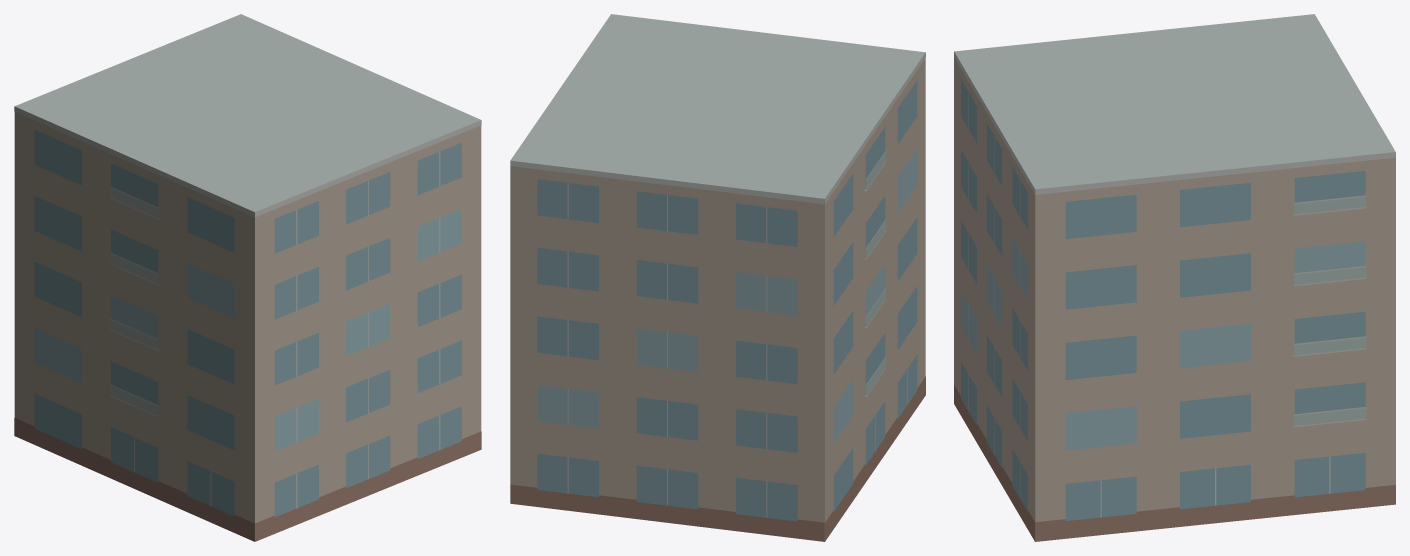
The model's file is survey-upis-32725464.glb.
3 renders of one model, left to right at view 1: azimuth 30°, elevation 25°; view 2: azimuth 150°, elevation 25°; view 3: azimuth 270°, elevation 25°, orthographic. The views are drawn at different scales.
Visible parts, largest first — view 1: survey-upis-32725464.tmp; view 2: survey-upis-32725464.tmp; view 3: survey-upis-32725464.tmp.
Part boxes in pixels (<box>): survey-upis-32725464.tmp: <box>14,14,481,541</box>; survey-upis-32725464.tmp: <box>510,14,925,541</box>; survey-upis-32725464.tmp: <box>954,14,1395,541</box>.
Size of the model in its own units: 16.44 by 15.4 by 17.5.
